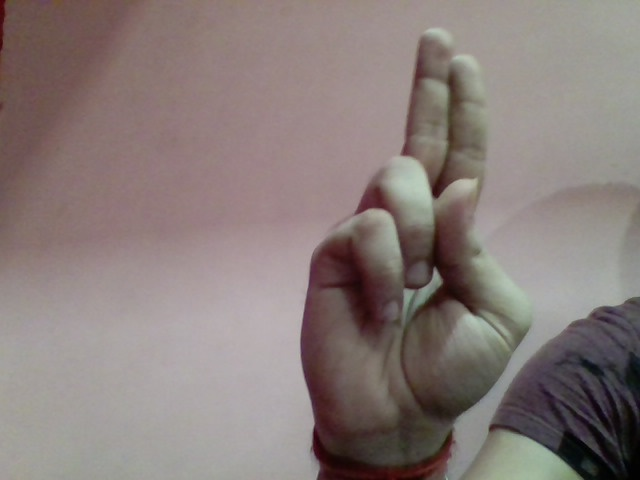u: (285, 17, 542, 437)
